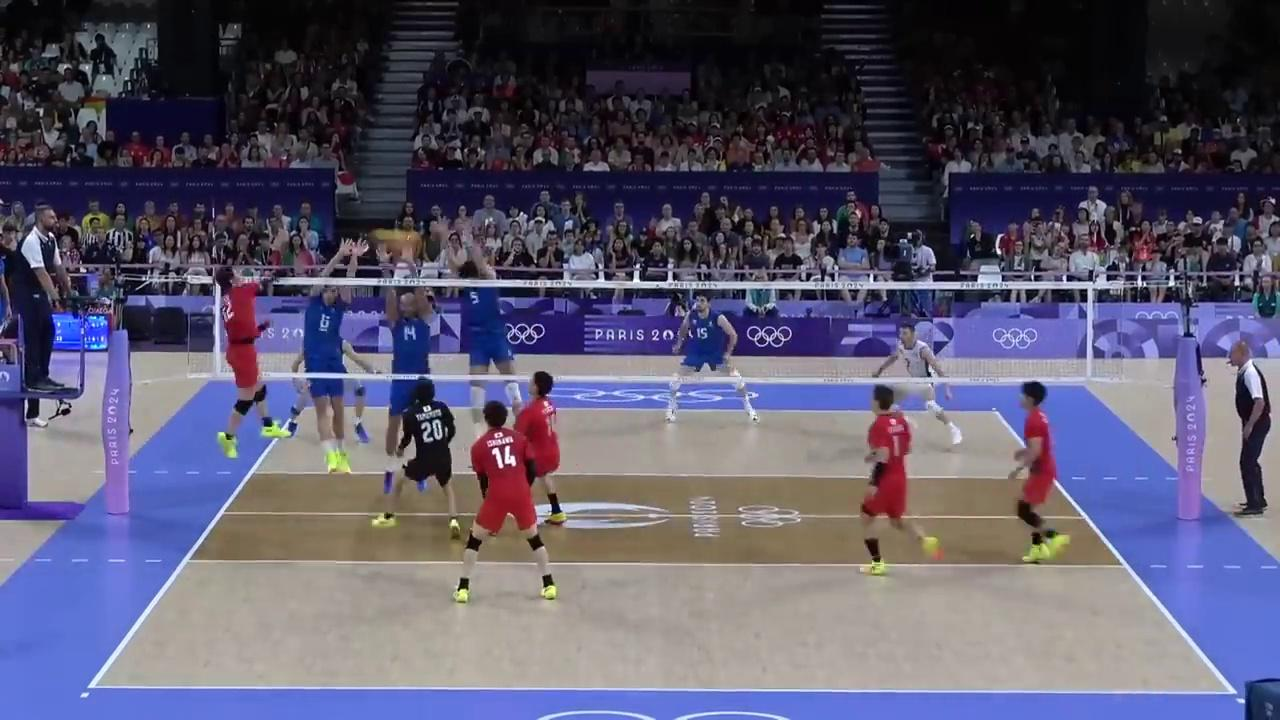ball: (377, 232, 422, 252)
